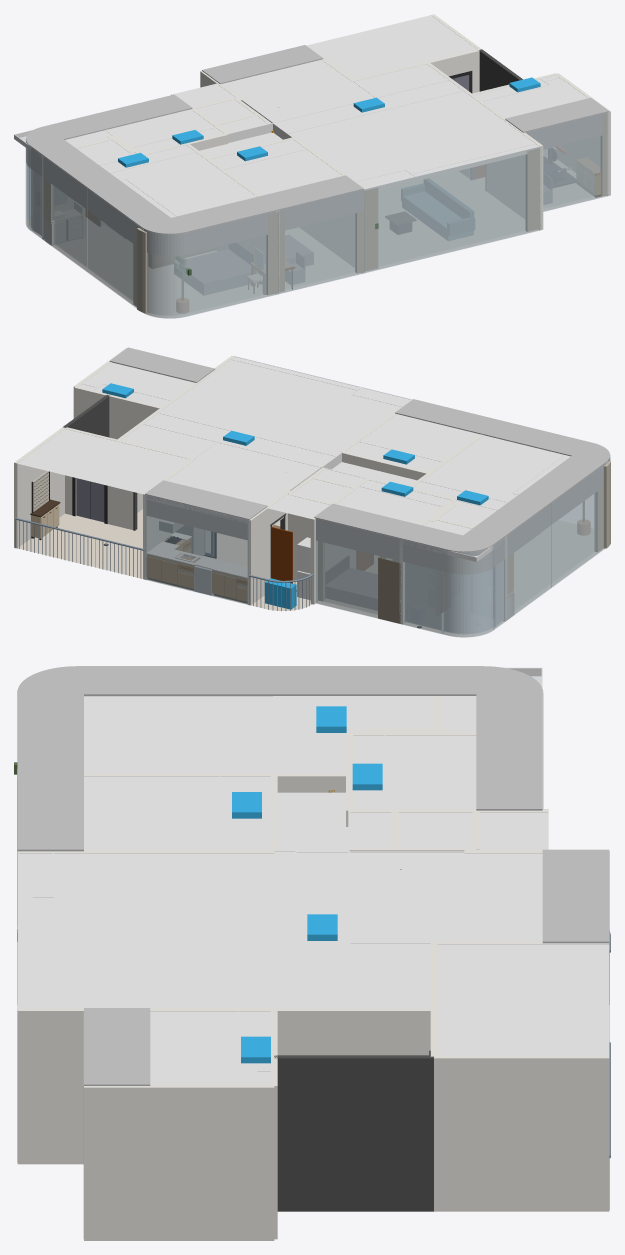
Rendered from master-bedroom-scene.glb.
3 renders of one model, top to bottom at view 1: azimuth 30°, elevation 25°; view 2: azimuth 150°, elevation 25°; view 3: azimuth 270°, elevation 25°, orthographic. The views are drawn at different scales.
Parts seen in each view (by area): view 1: ceiling:living_dining, living_south_curtain, curtain_living_south:sheer:deployed, west_curtain:part=w_mb_south, west_curtain:part=w_st_south, curtain_master_south:sheer:deployed, ceiling:master_bedroom, floor:master_bedroom, floor:living_dining, ceiling:entry_garden, south_east_curtain, master_bedroom_south_bay (+46 smaller); view 2: ceiling:living_dining, north_recess_curtain, kitchen_north_curtain, ceiling:master_bedroom, ceiling:entry_garden, curtain_mbath_corner:blinds:deployed, curtain_master_west:sheer:deployed, west_curtain:part=w_west_upper, entry_garden_floor, floor:master_bedroom, kitchen_north_bay, ceiling:study (+46 smaller); view 3: ceiling:living_dining, w_east_upper, w_ent_east, w_foyer_outer_east, ceiling:master_bedroom, ceiling:entry_garden, ceiling:study, w_be_west:1, ceiling:bedroom_nw, ceiling:bedroom_se, ceiling:kitchen, master_bedroom_south_bay (+23 smaller).
Part boxes in pixels (<box>): ceiling:living_dining: <box>243,64,538,188</box>; living_south_curtain: <box>364,146,541,272</box>; curtain_living_south:sheer:deployed: <box>378,155,525,266</box>; west_curtain:part=w_mb_south: <box>141,211,278,318</box>; west_curtain:part=w_st_south: <box>278,190,364,293</box>; curtain_master_south:sheer:deployed: <box>148,235,265,315</box>; ceiling:master_bedroom: <box>77,140,256,217</box>; floor:master_bedroom: <box>52,225,275,318</box>; floor:living_dining: <box>366,171,539,272</box>; ceiling:entry_garden: <box>307,15,477,79</box>; south_east_curtain: <box>526,112,608,211</box>; master_bedroom_south_bay: <box>141,196,277,256</box>; ceiling:living_dining: <box>121,357,410,490</box>; north_recess_curtain: <box>316,519,493,637</box>; kitchen_north_curtain: <box>144,495,248,604</box>; ceiling:master_bedroom: <box>413,435,570,526</box>; ceiling:entry_garden: <box>18,429,190,494</box>; curtain_mbath_corner:blinds:deployed: <box>405,560,503,633</box>; curtain_master_west:sheer:deployed: <box>514,494,594,609</box>; west_curtain:part=w_west_upper: <box>551,463,605,587</box>; entry_garden_floor: <box>18,514,142,577</box>; floor:master_bedroom: <box>514,520,604,613</box>; kitchen_north_bay: <box>145,480,267,540</box>; ceiling:study: <box>345,414,479,471</box>; ceiling:living_dining: <box>18,851,464,1008</box>; w_east_upper: <box>84,1084,274,1240</box>; w_ent_east: <box>434,1055,609,1211</box>; w_foyer_outer_east: <box>274,1055,433,1211</box>; ceiling:master_bedroom: <box>84,696,432,773</box>; ceiling:entry_garden: <box>437,945,609,1055</box>; ceiling:study: <box>84,776,270,849</box>; w_be_west:1: <box>17,1008,213,1164</box>; ceiling:bedroom_nw: <box>353,736,476,808</box>; ceiling:bedroom_se: <box>150,1011,270,1084</box>; ceiling:kitchen: <box>464,853,542,941</box>; master_bedroom_south_bay: <box>17,666,83,773</box>.
Size of the model in its own units: 16.55 by 2.91 by 9.89.
